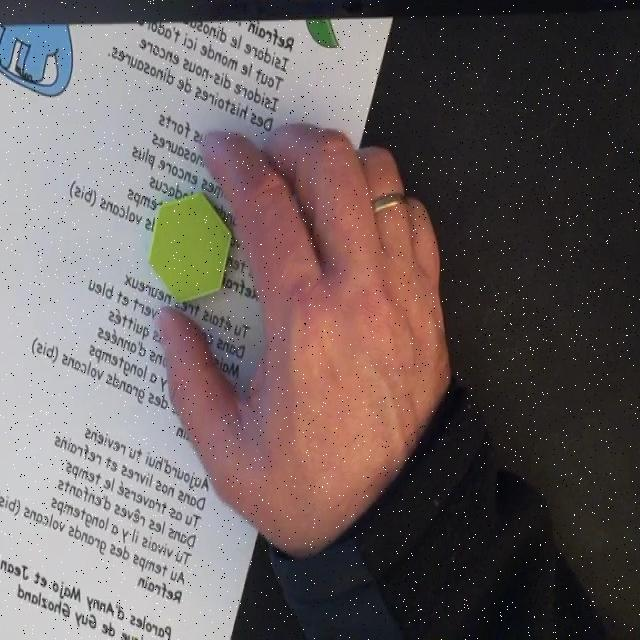hexagon: (148, 190, 233, 305)
